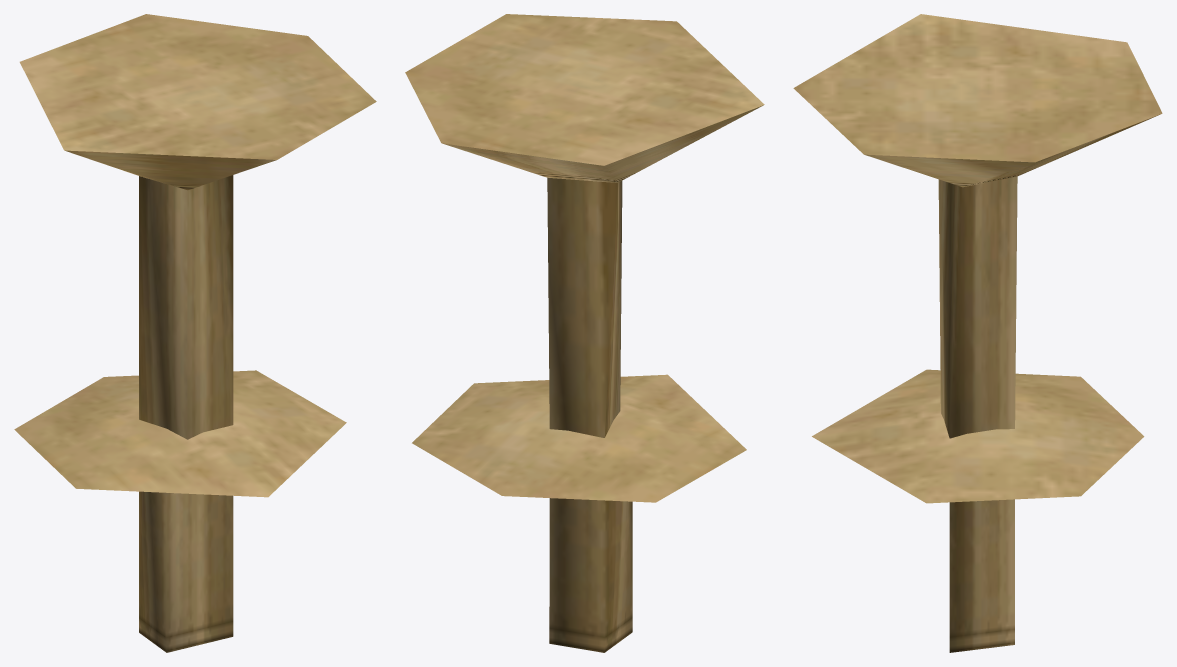
The model's file is frn_tato_table_small_s03_l3.fbx.
3 renders of one model, left to right at view 1: azimuth 30°, elevation 25°; view 2: azimuth 150°, elevation 25°; view 3: azimuth 270°, elevation 25°, orthographic.
Visible parts, largest first — view 1: mesh_node; view 2: mesh_node; view 3: mesh_node.
Part boxes in pixels (x1,y1,x2,y2): mesh_node: (14,14,376,652); mesh_node: (405,14,764,652); mesh_node: (793,14,1162,652).
Bounding box in the file's own units: 0.4355 × 0.75 × 0.4579.
1 material, 1 textured.
